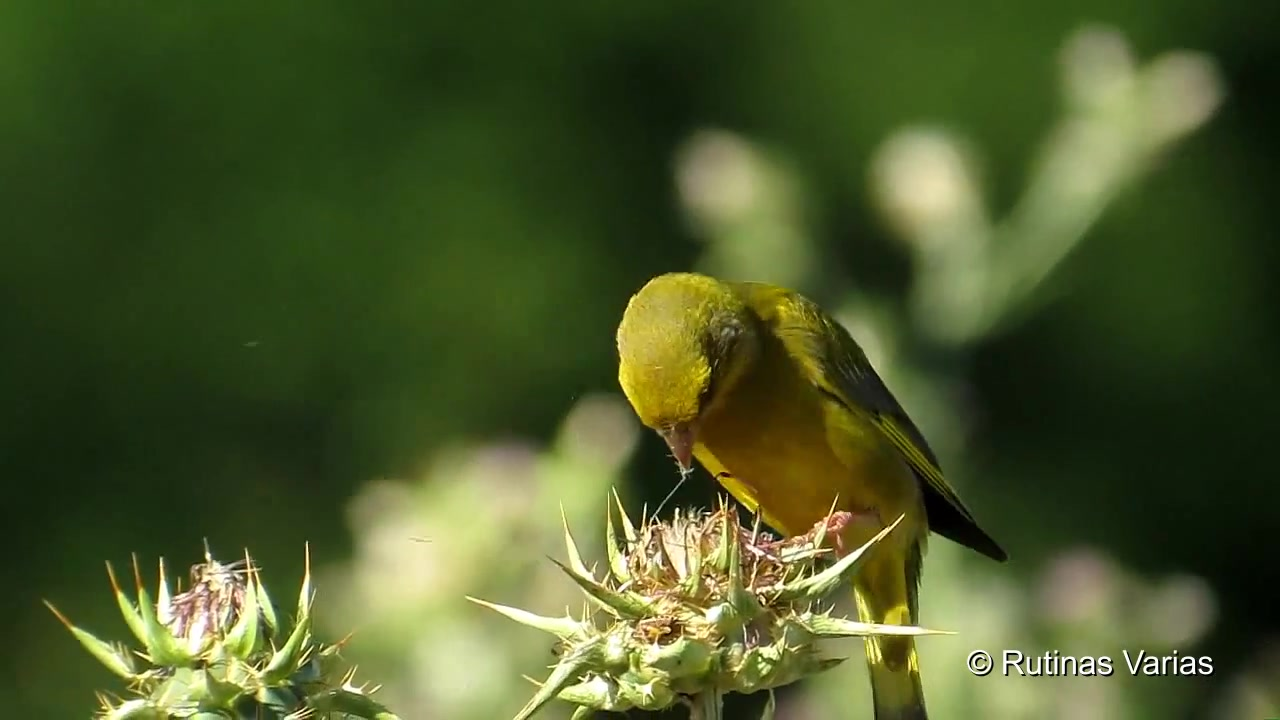bird: (614, 271, 1015, 720)
